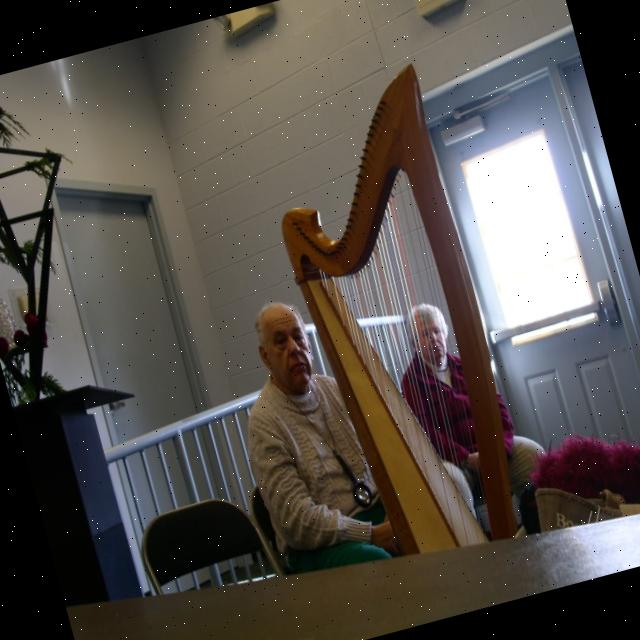harp: (242, 56, 542, 578)
